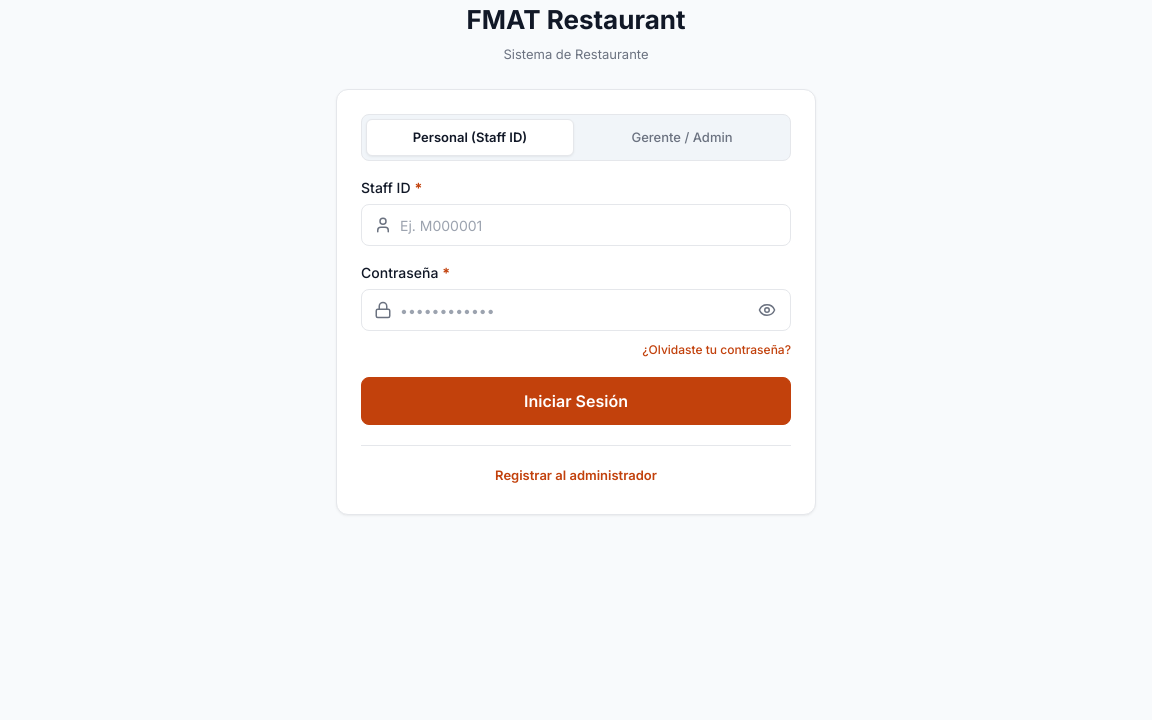
Scenario: Correcciones de la auditoría QA › BUG-AUTH-002: recuperación de contraseña del administrador › en la pestaña Gerente / Admin no pide Staff ID
Click the button "Gerente / Admin". click: (682, 137)
box: [578, 118, 786, 156]
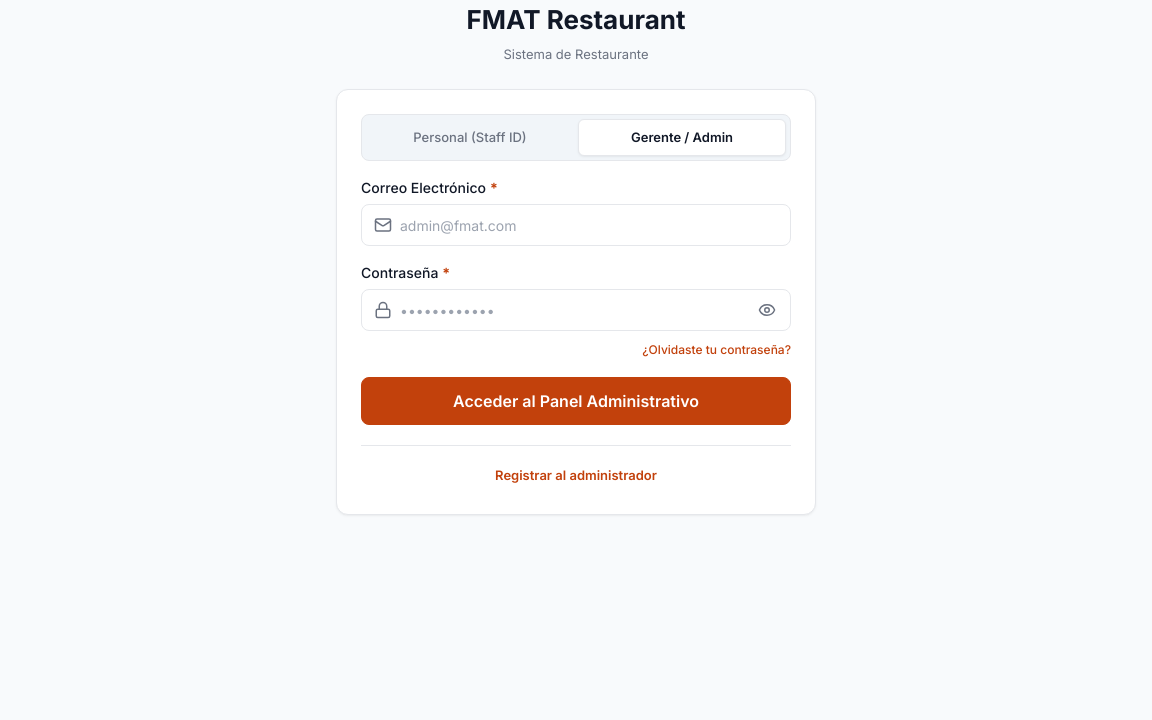
Click the button "¿Olvidaste tu contraseña?". click: (717, 350)
box: [642, 339, 791, 361]
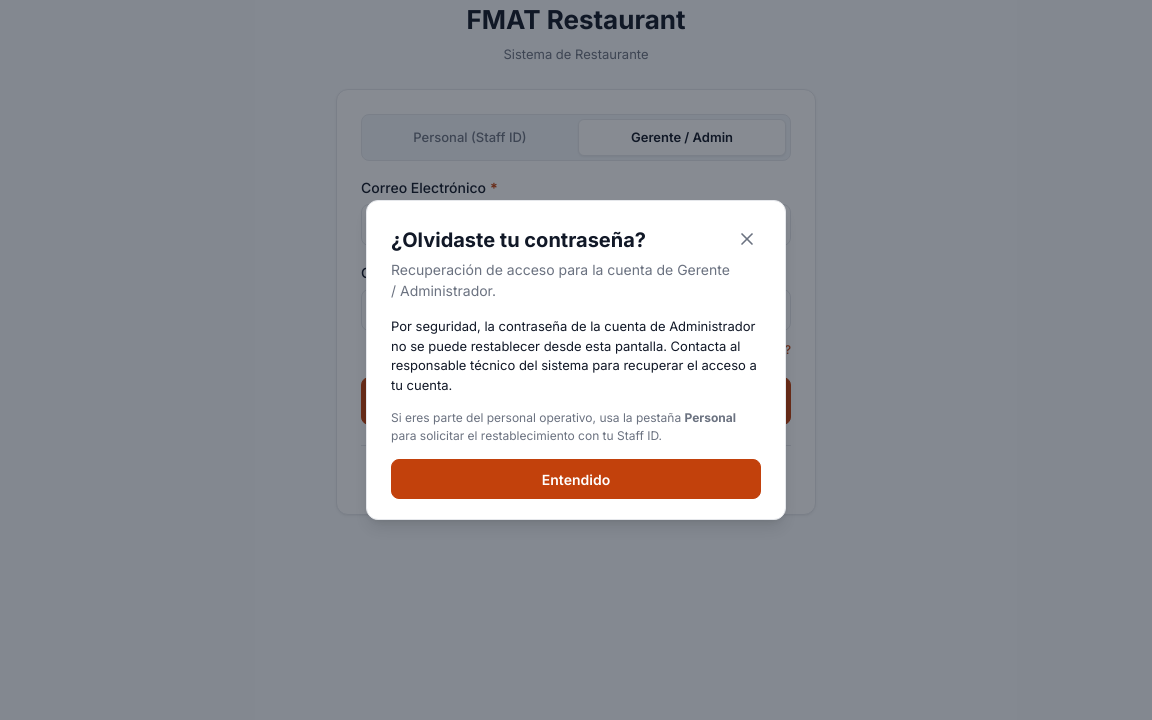
Now the text "la contraseña de la cuenta de Administrador no se puede restablecer" is shown, box [391, 318, 757, 392]
